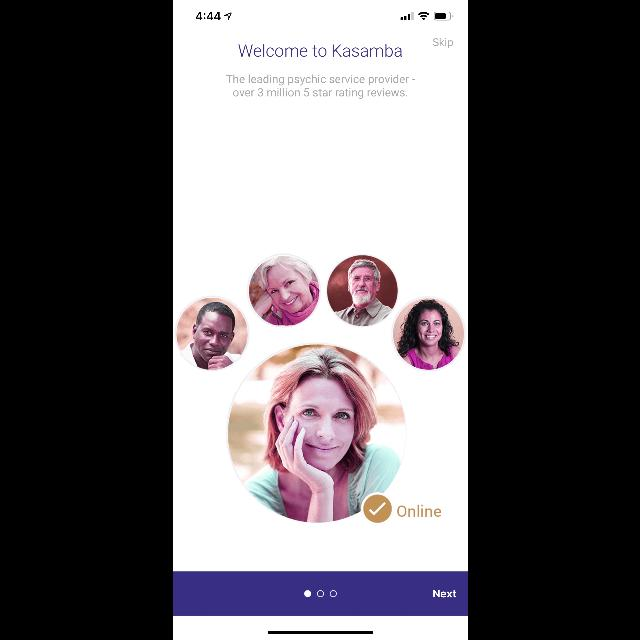icon: (361, 492, 394, 526)
image: (173, 254, 467, 524)
pageindicator: (304, 590, 336, 596)
text: (226, 75, 414, 99), (238, 44, 400, 56), (397, 505, 441, 517), (432, 38, 452, 48), (432, 590, 456, 598)
uppertaskbar: (195, 12, 452, 21)
